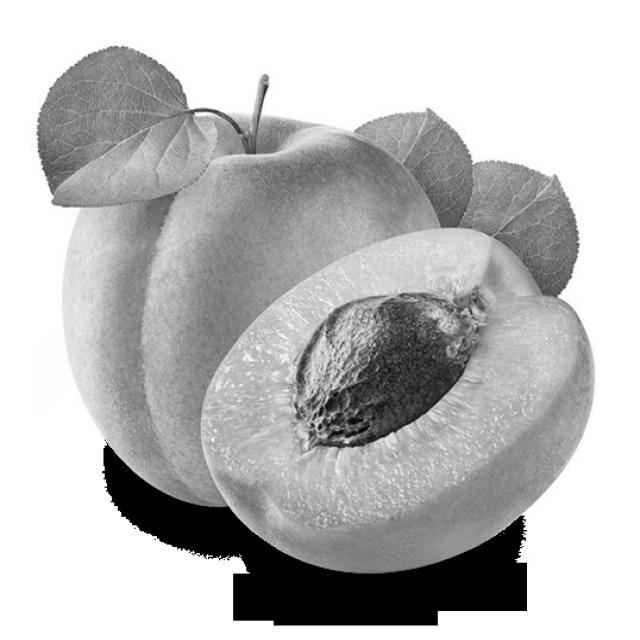Kayisi: (61, 122, 449, 511), (207, 229, 597, 570)
Kayisi Cekirdegi: (300, 300, 468, 442)
Kayisi Yapragi: (37, 50, 211, 201), (456, 163, 572, 303), (351, 116, 476, 229)
